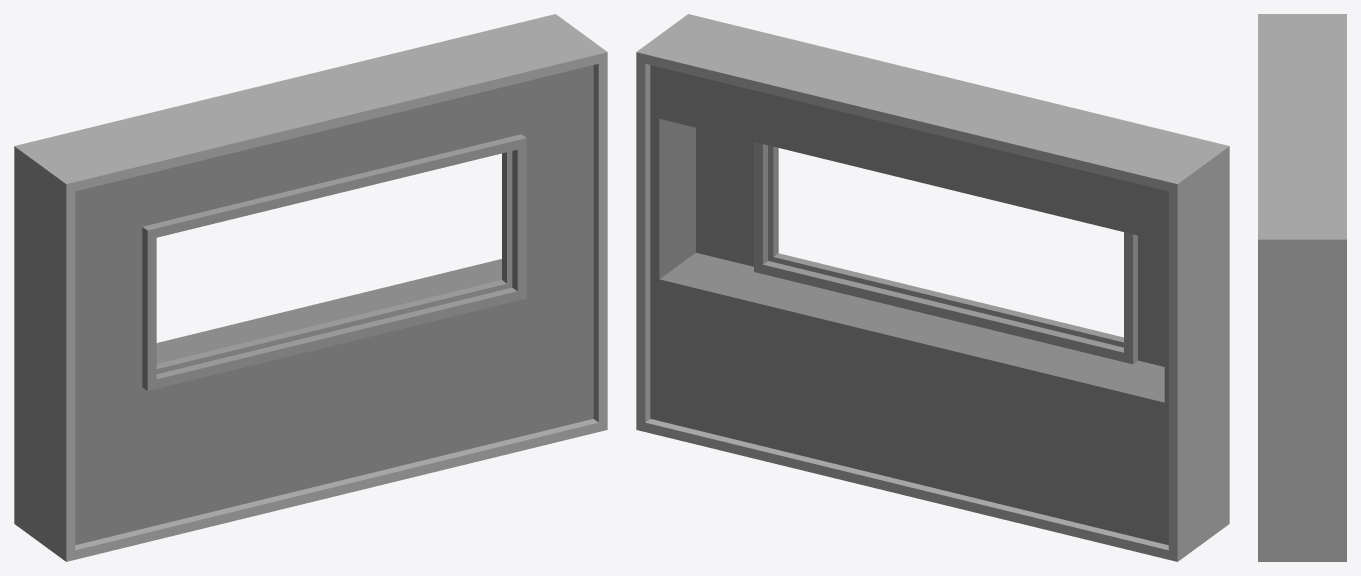
The model's file is Security Wall 4.obj.
3 renders of one model, left to right at view 1: azimuth 30°, elevation 25°; view 2: azimuth 150°, elevation 25°; view 3: azimuth 270°, elevation 25°, orthographic. The views are drawn at different scales.
Bounding box in the file's own units: 60 × 40 × 10.
Materials: 1 (1 with a texture image).
